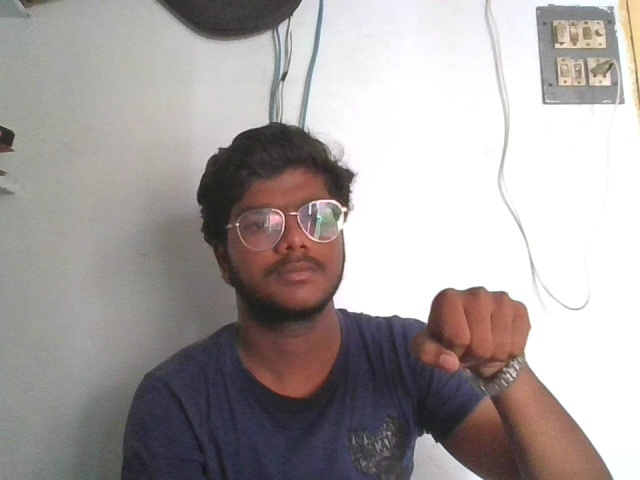Yes: (411, 282, 544, 383)
